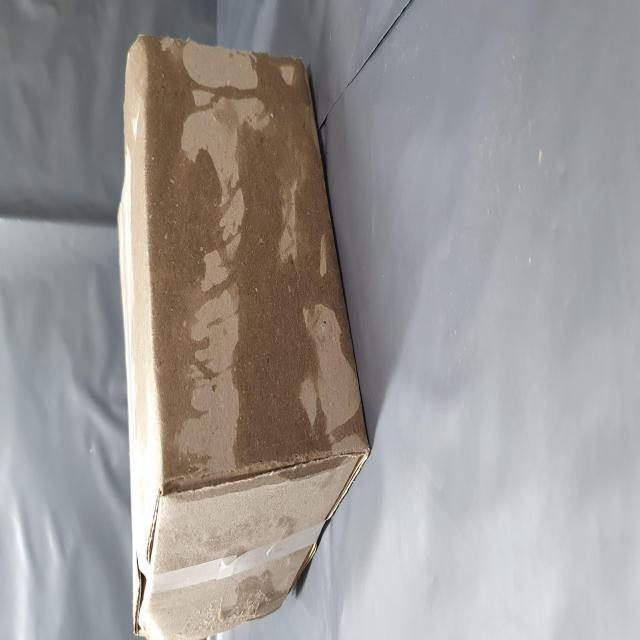wet: (91, 265, 327, 640)
